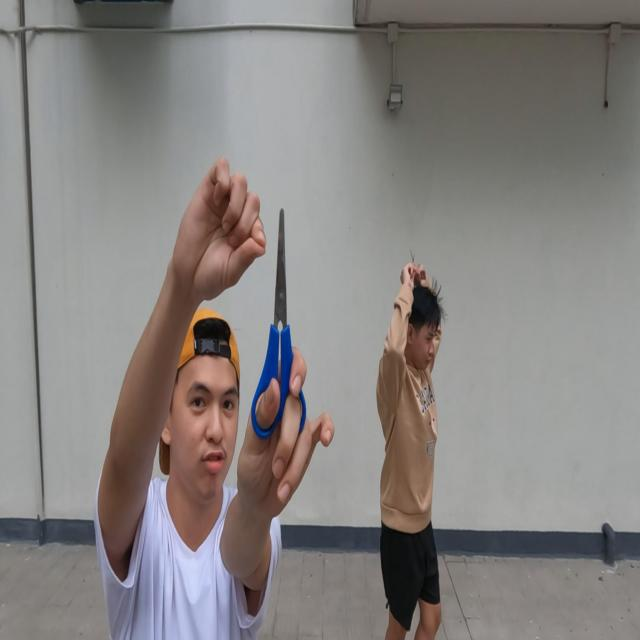scissor: (250, 206, 306, 436)
